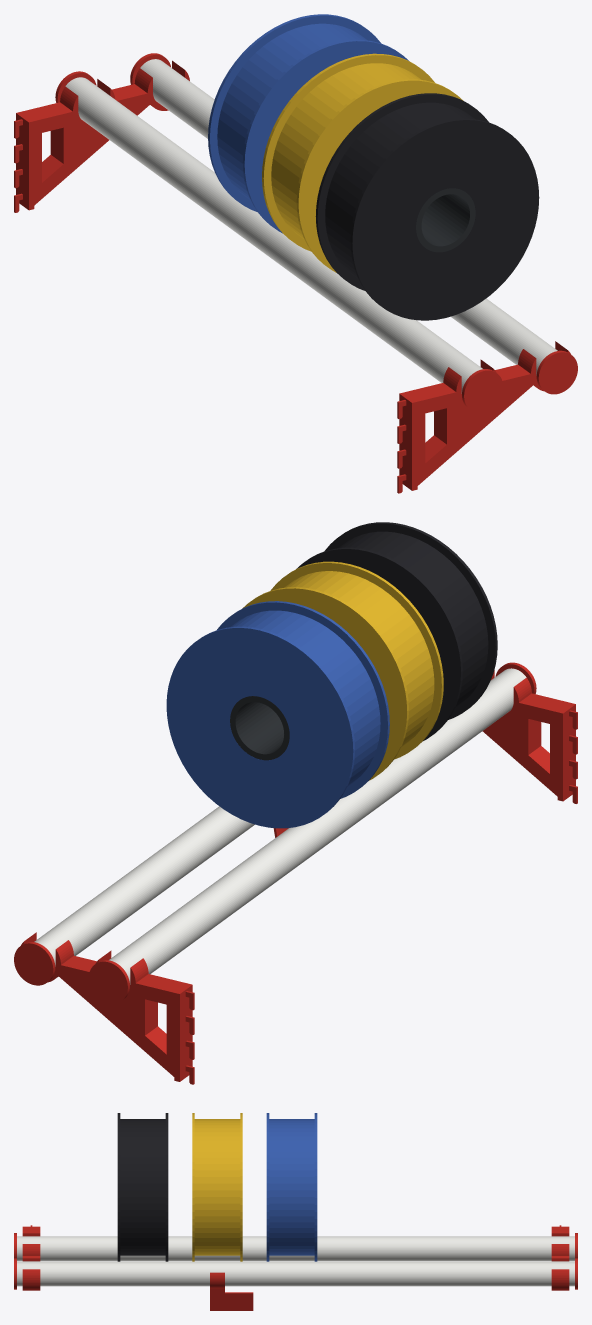
File: spool-shelf.glb
3 renders of one model, top to bottom at view 1: azimuth 30°, elevation 25°; view 2: azimuth 150°, elevation 25°; view 3: azimuth 270°, elevation 25°, orthographic. The views are drawn at different scales.
Parts seen in each view (by area): view 1: part_08, part_02, part_10, part_12, part_00, part_01, part_05, part_09, part_06, part_03; view 2: part_12, part_02, part_10, part_08, part_05, part_01, part_00, part_13, part_07, part_04; view 3: part_05, part_02, part_08, part_12, part_10, part_14, part_00, part_01.
Boxes of the visible parts, bbox=[...] form: part_08: bbox=[315, 93, 539, 320]; part_02: bbox=[65, 77, 482, 393]; part_10: bbox=[262, 53, 463, 272]; part_12: bbox=[208, 14, 409, 233]; part_00: bbox=[397, 341, 570, 493]; part_01: bbox=[14, 60, 189, 212]; part_05: bbox=[140, 59, 557, 375]; part_09: bbox=[416, 188, 475, 252]; part_06: bbox=[536, 350, 577, 394]; part_03: bbox=[462, 369, 503, 412]; part_12: bbox=[166, 601, 389, 828]; part_02: bbox=[109, 668, 526, 984]; part_10: bbox=[242, 561, 443, 780]; part_08: bbox=[296, 522, 497, 740]; part_05: bbox=[34, 806, 254, 966]; part_01: bbox=[21, 932, 194, 1084]; part_00: bbox=[482, 670, 577, 803]; part_13: bbox=[230, 696, 289, 760]; part_07: bbox=[14, 942, 55, 985]; part_04: bbox=[88, 960, 129, 1003]; part_05: bbox=[17, 1261, 574, 1286]; part_02: bbox=[17, 1236, 574, 1260]; part_08: bbox=[117, 1113, 168, 1261]; part_12: bbox=[266, 1113, 317, 1261]; part_10: bbox=[192, 1113, 242, 1261]; part_14: bbox=[210, 1272, 253, 1310]; part_00: bbox=[22, 1225, 40, 1290]; part_01: bbox=[551, 1225, 569, 1290].
Bounding box in the file's own units: 218 × 305 × 758.
